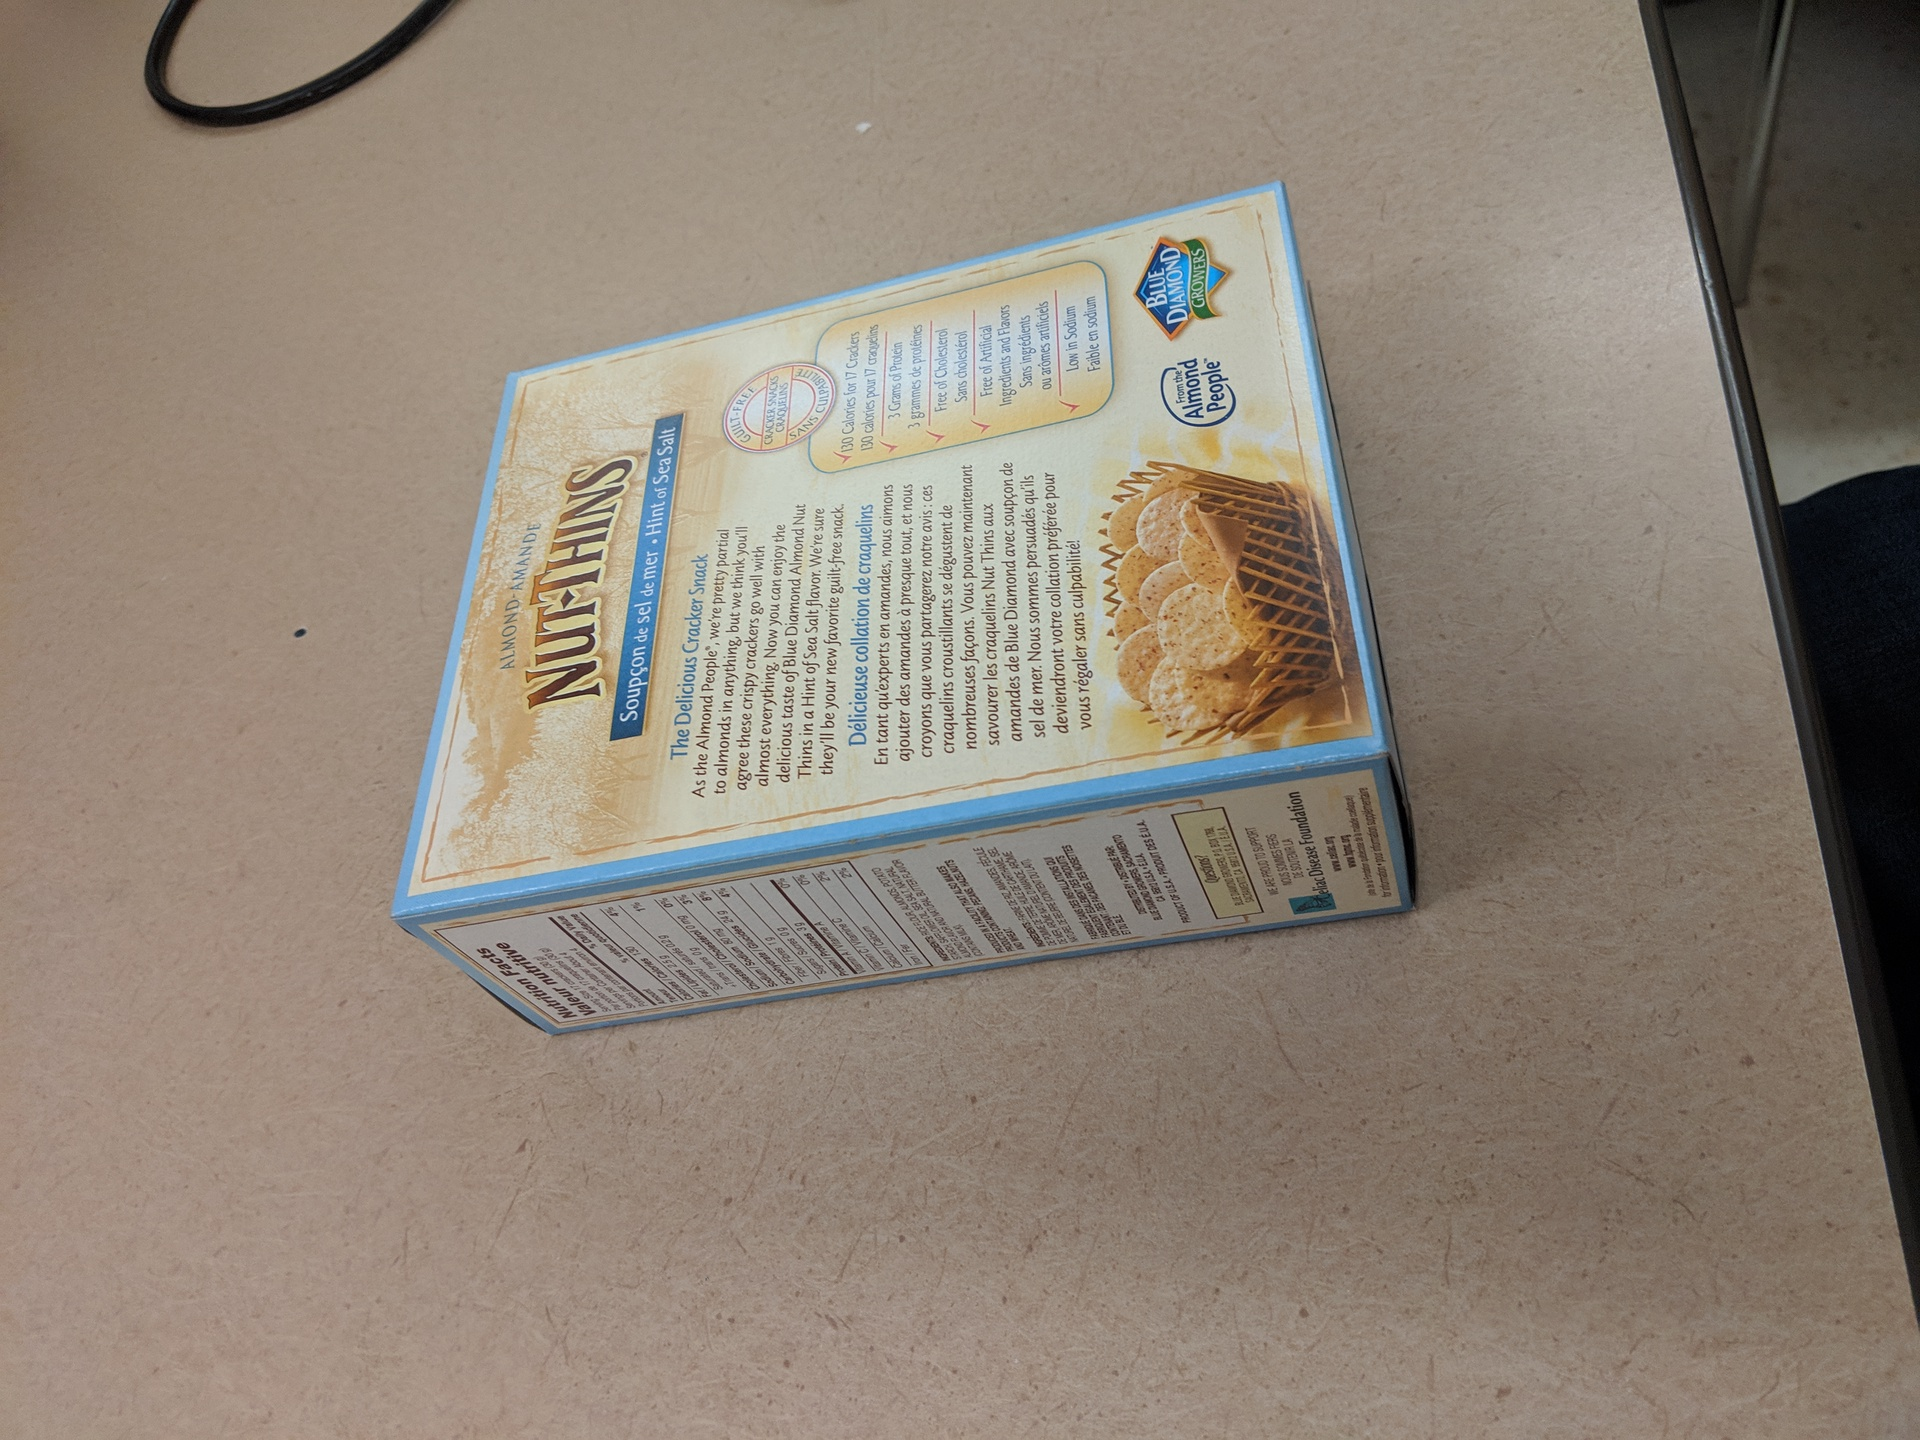blue_diamond_nut_thins_almond_seasalt: (382, 180, 1429, 1019)
